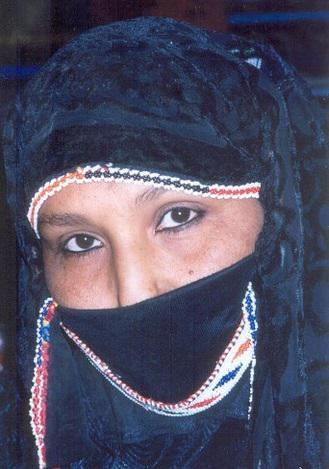WRONG: (41, 166, 260, 385)
